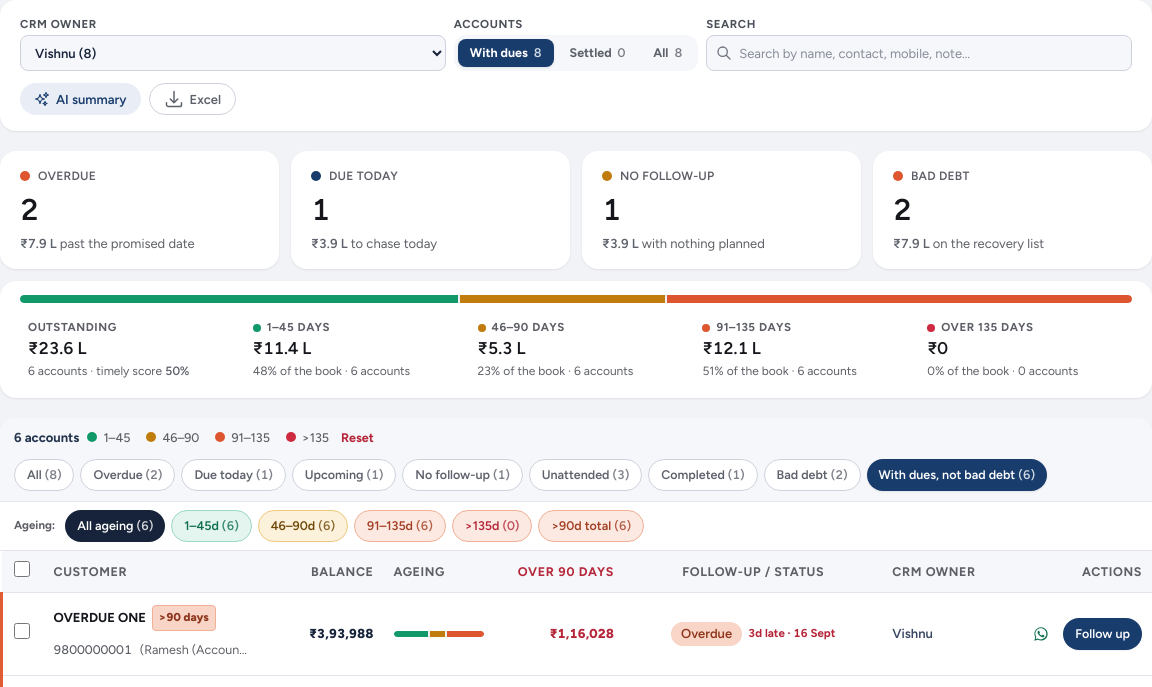
Test: Reports follows the filters it is handed › "Accounts with dues" opens exactly the accounts it counted: dues, bad debt aside — and Completed never holds a defaulter
Expected: the button "With dues, not bad debt (6)" is shown, [867,459,1047,491]
Click the button "Completed (1)" at (703, 475), box [648,459,758,491]
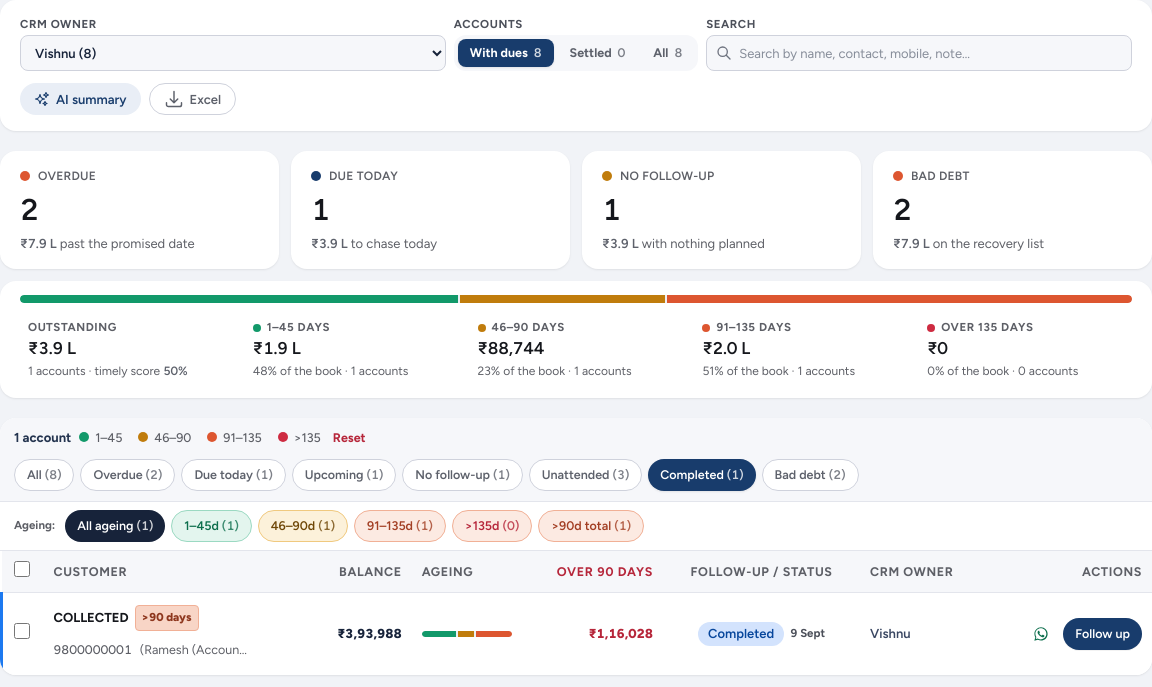
Expected: the button "Bad debt (2)" is shown, [762,459,859,491]
Expected: the button "With dues, not bad debt" is gone
